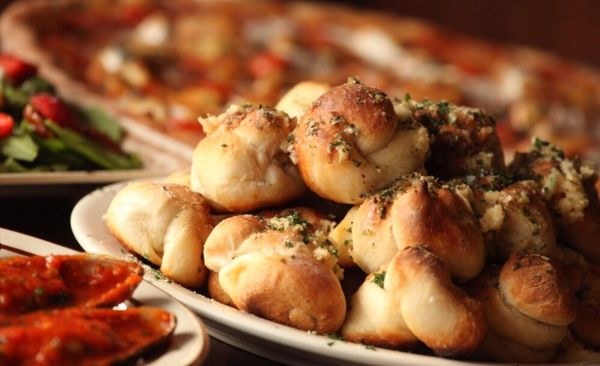curry: (0, 0, 599, 358)
